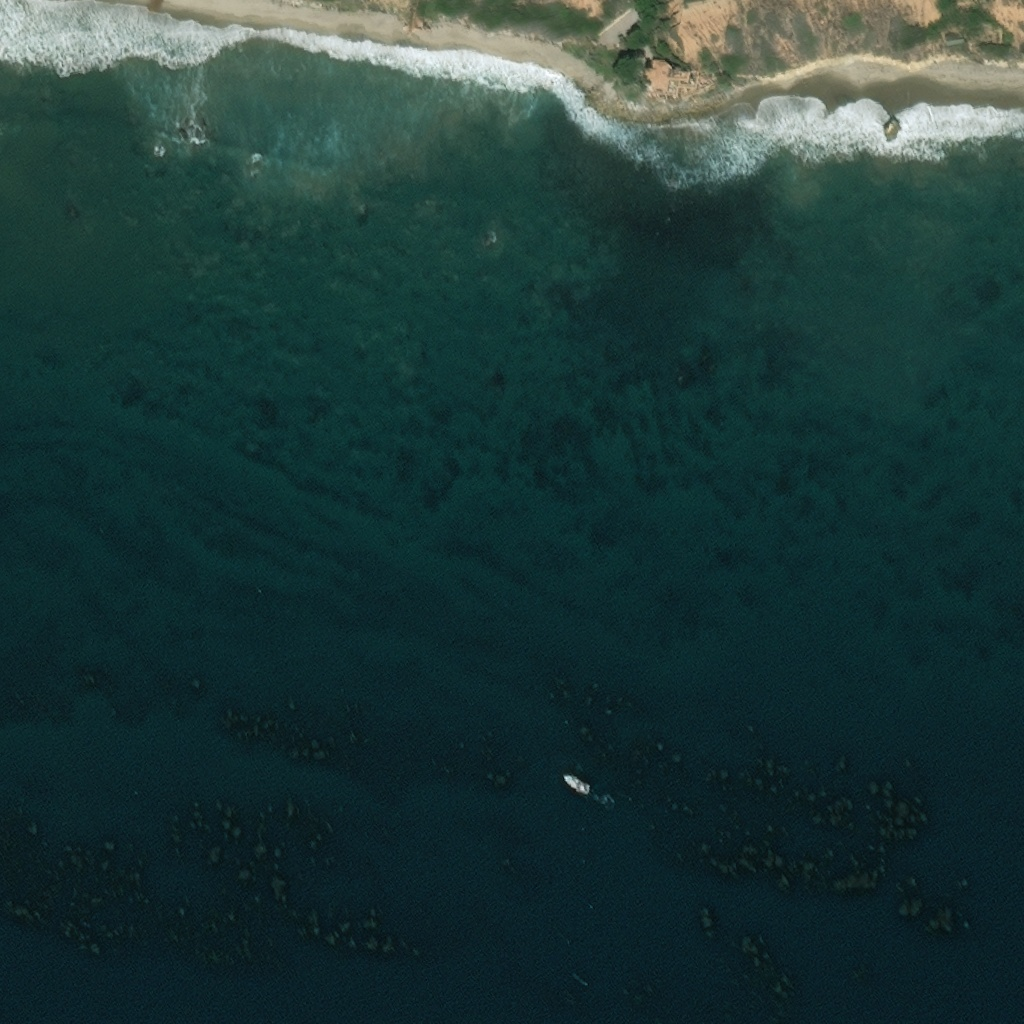0 no-damage: (646, 63, 675, 99), (943, 31, 962, 40), (676, 76, 688, 85)
